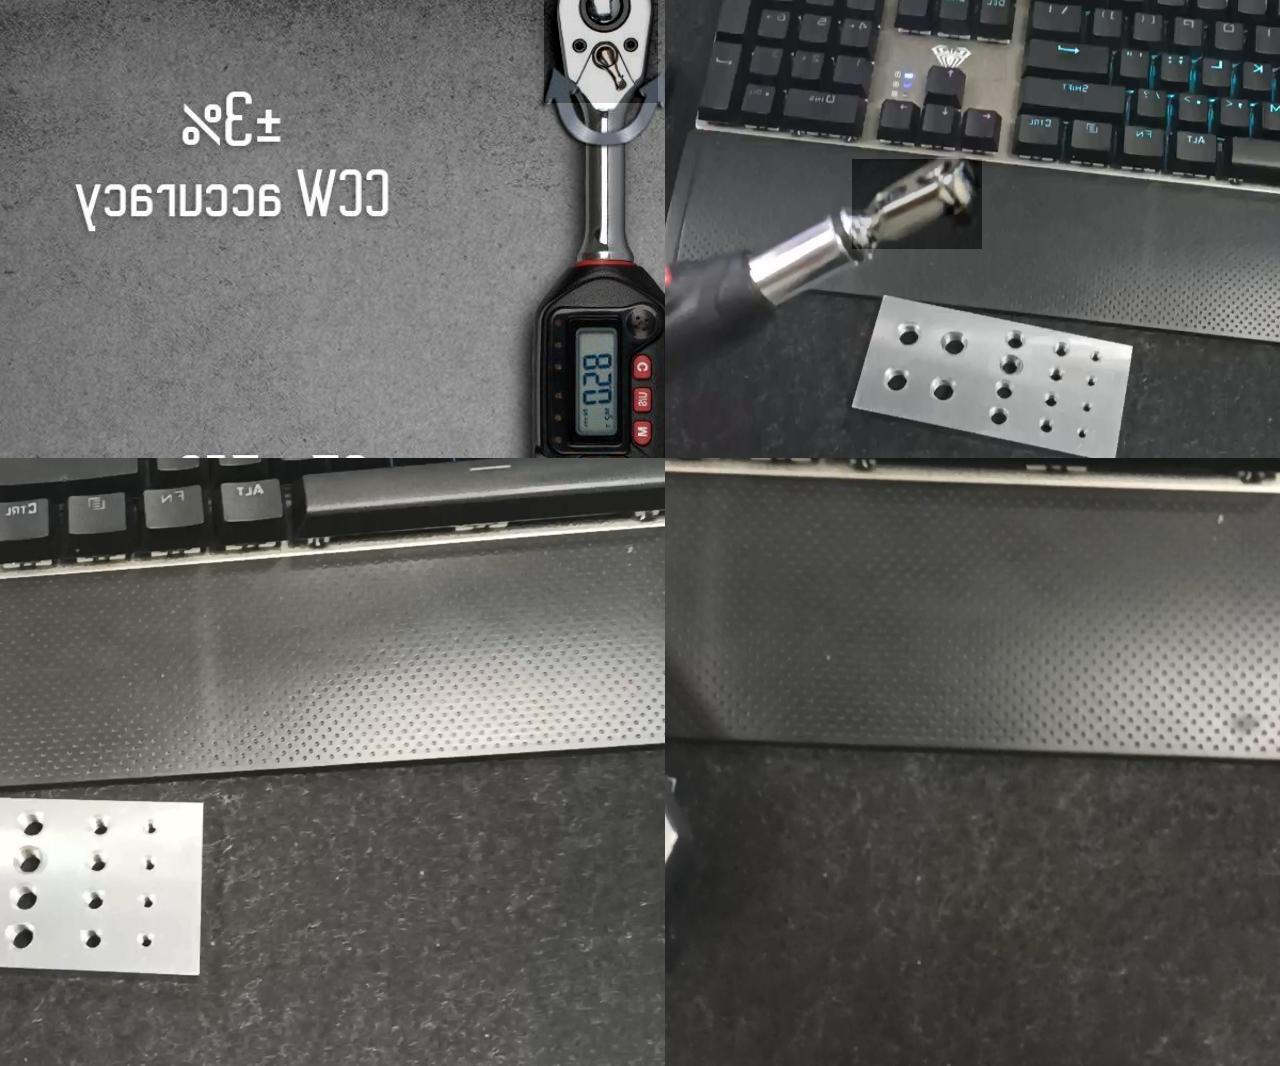Tool: (544, 0, 658, 103), (852, 159, 982, 249)
hole: (933, 326, 973, 359), (920, 372, 957, 405), (874, 365, 911, 396), (11, 844, 47, 874), (886, 320, 922, 350), (13, 809, 48, 836), (6, 884, 39, 913), (3, 921, 35, 949), (995, 354, 1027, 377), (73, 927, 103, 951), (78, 890, 106, 914), (986, 403, 1015, 426), (83, 851, 112, 875), (83, 812, 112, 835), (1000, 327, 1029, 350), (992, 378, 1021, 400), (130, 895, 152, 914), (128, 932, 150, 951), (1037, 421, 1058, 440), (133, 856, 155, 874), (135, 822, 157, 840), (1039, 387, 1060, 405), (1045, 360, 1066, 377), (1078, 396, 1097, 414), (1049, 335, 1070, 352), (1075, 434, 1094, 451), (1088, 343, 1106, 359), (1085, 373, 1102, 387)
